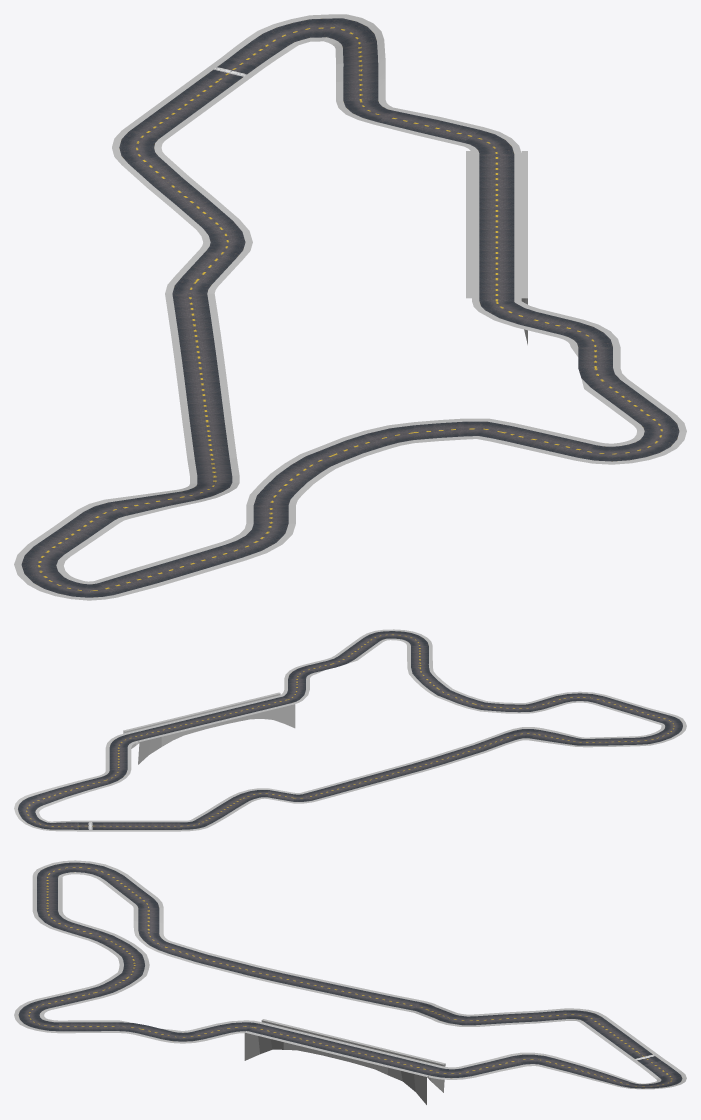
Rendered from Track_new.fbx.
3 views of the same model, one above another, from view 1: azimuth 30°, elevation 25°; view 2: azimuth 150°, elevation 25°; view 3: azimuth 270°, elevation 25° (orthographic). The views are drawn at different scales.
Visible parts, largest first — view 1: track_new; view 2: track_new; view 3: track_new.
Boxes of the visible parts, <box> form: track_new: <box>14,14,686,600</box>; track_new: <box>14,629,686,831</box>; track_new: <box>14,860,686,1104</box>.
Bounding box in the file's own units: 189 × 11.65 × 224.
